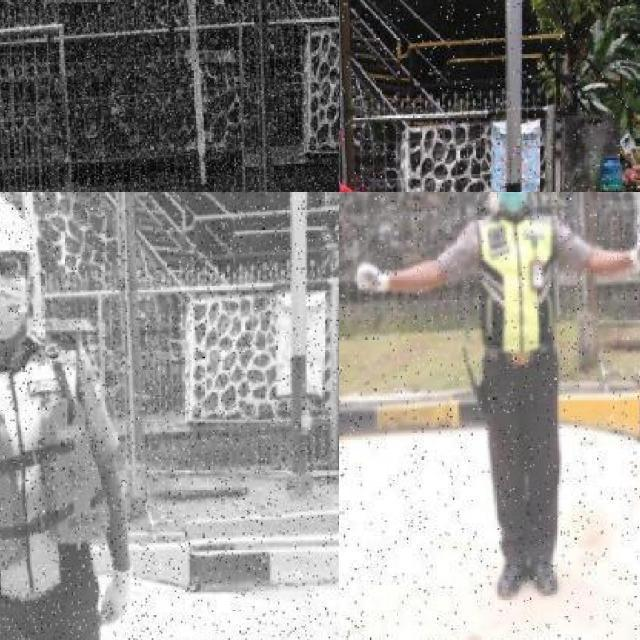apron: (95, 558, 138, 634), (354, 260, 392, 300), (628, 230, 640, 273)
